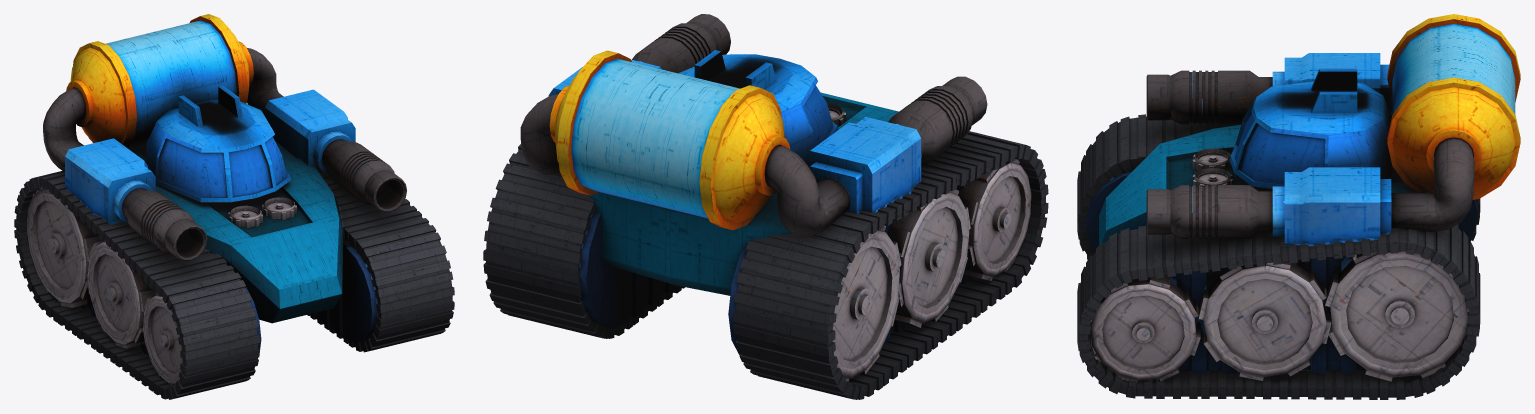
Rendered from PlayerB0.obj.
3 renders of one model, left to right at view 1: azimuth 30°, elevation 25°; view 2: azimuth 150°, elevation 25°; view 3: azimuth 270°, elevation 25°, orthographic. The views are drawn at different scales.
Parts seen in each view (by area): view 1: Object001, Box042, Object004, Object003, Object002; view 2: Object001, Box042, Object003, Object004, Object002; view 3: Object001, Box042, Object004, Object003, Object002.
Part boxes in pixels (left/top/right/bottom): Object001: left=43, top=14, right=406, bottom=358; Box042: left=14, top=171, right=454, bottom=399; Object004: left=26, top=187, right=101, bottom=307; Object003: left=86, top=240, right=156, bottom=348; Object002: left=142, top=292, right=182, bottom=386; Object001: left=520, top=14, right=987, bottom=355; Box042: left=483, top=131, right=1048, bottom=399; Object003: left=887, top=189, right=970, bottom=327; Object004: left=832, top=225, right=901, bottom=381; Object002: left=958, top=159, right=1031, bottom=280; Object001: left=1085, top=14, right=1520, bottom=374; Box042: left=1077, top=114, right=1480, bottom=399; Object004: left=1325, top=251, right=1468, bottom=381; Object003: left=1198, top=261, right=1331, bottom=380; Object002: left=1090, top=275, right=1200, bottom=382.
Size of the model in its own units: 121 by 100 by 147.
Materials: 2 (2 with a texture image).
